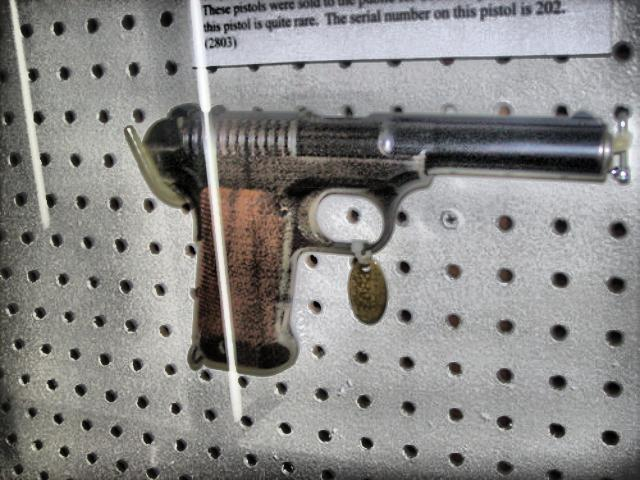pistol: (137, 98, 611, 374)
